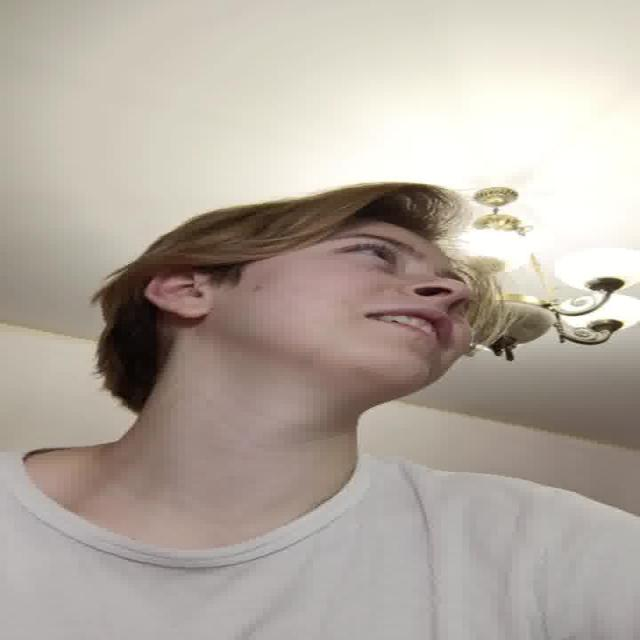earlobe: (165, 302, 213, 320)
eye: (338, 246, 400, 266)
nose: (407, 292, 466, 312)
wholeear: (148, 271, 214, 320)
